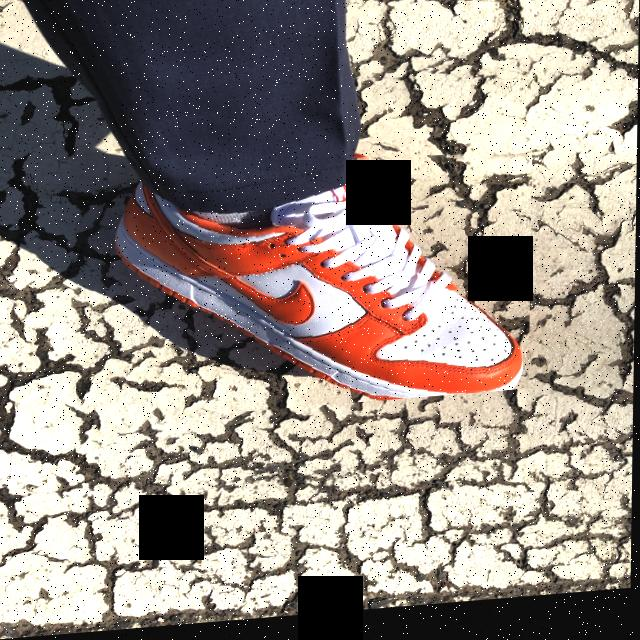shoe: (110, 140, 533, 425)
